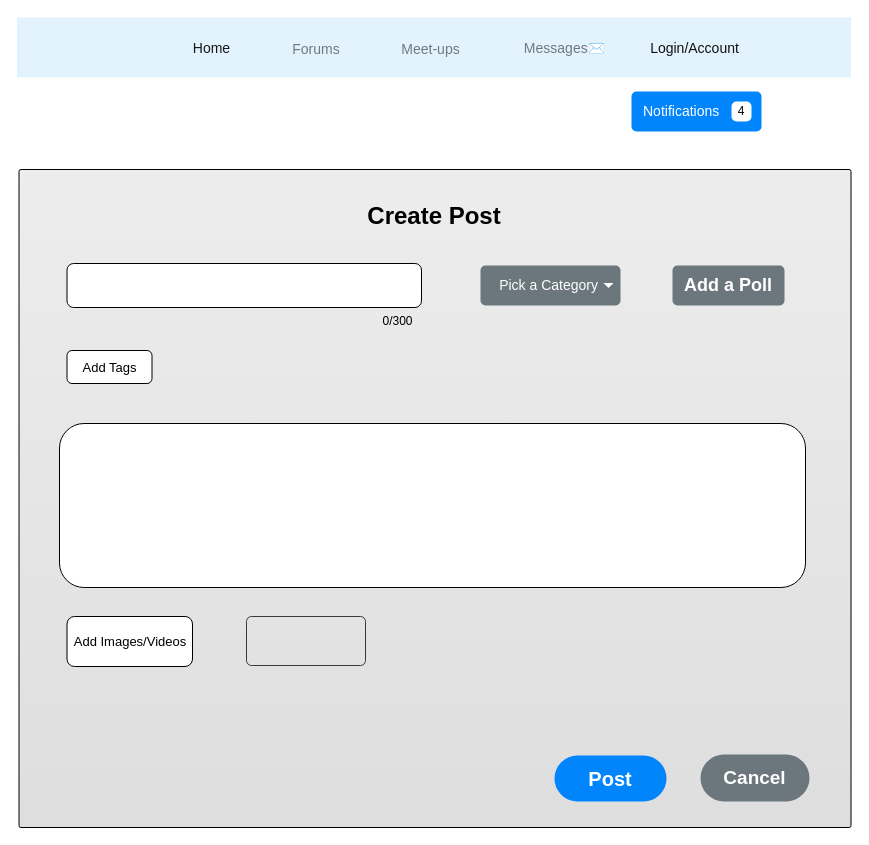
Some shapes in this 869 by 845 pixel diagram are drawn without their labels. The centre of each missing label's shape, as x and y in pixels:
Add Links: the point at 306,641
Body *: the point at 432,505
Moto-Media: the point at 433,47
Title *: the point at 244,285
